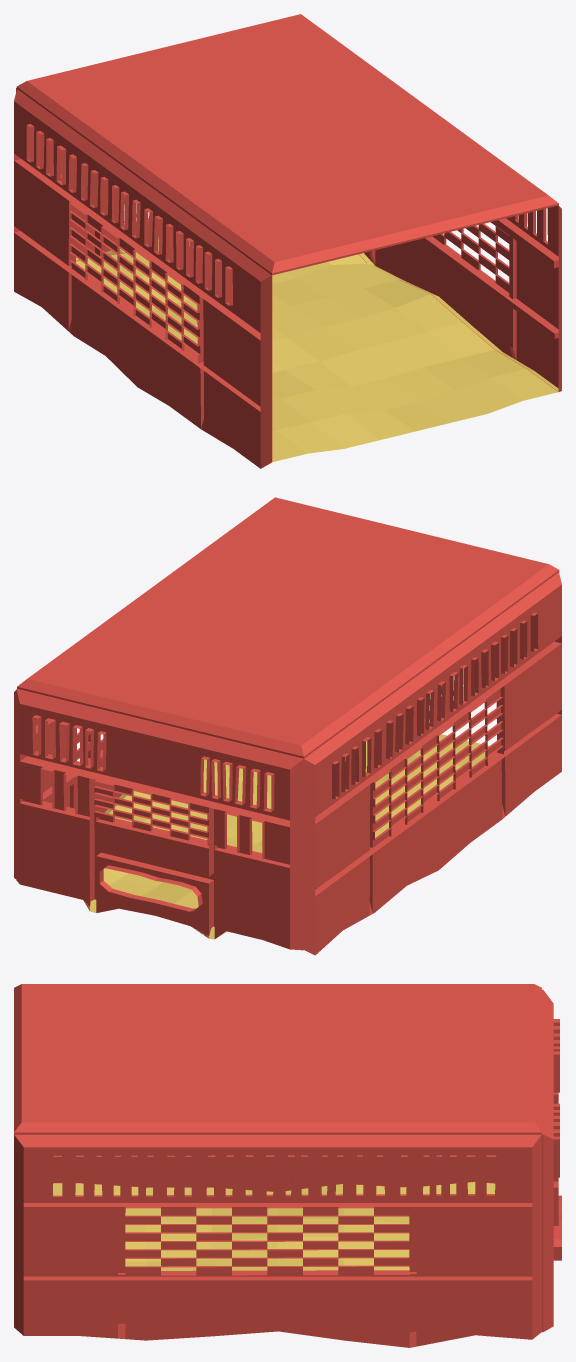
The model's file is FishGambaBox.glb.
3 views of the same model, one above another, from view 1: azimuth 30°, elevation 25°; view 2: azimuth 150°, elevation 25°; view 3: azimuth 270°, elevation 25° (orthographic). The views are drawn at different scales.
Parts seen in each view (by area): view 1: Cube; view 2: Cube; view 3: Cube.
Boxes of the visible parts, left/top/right/bottom form: Cube: left=14, top=14, right=561, bottom=468; Cube: left=14, top=497, right=561, bottom=955; Cube: left=14, top=984, right=561, bottom=1347.
Bounding box in the file's own units: 29.55 × 19.42 × 43.93.
